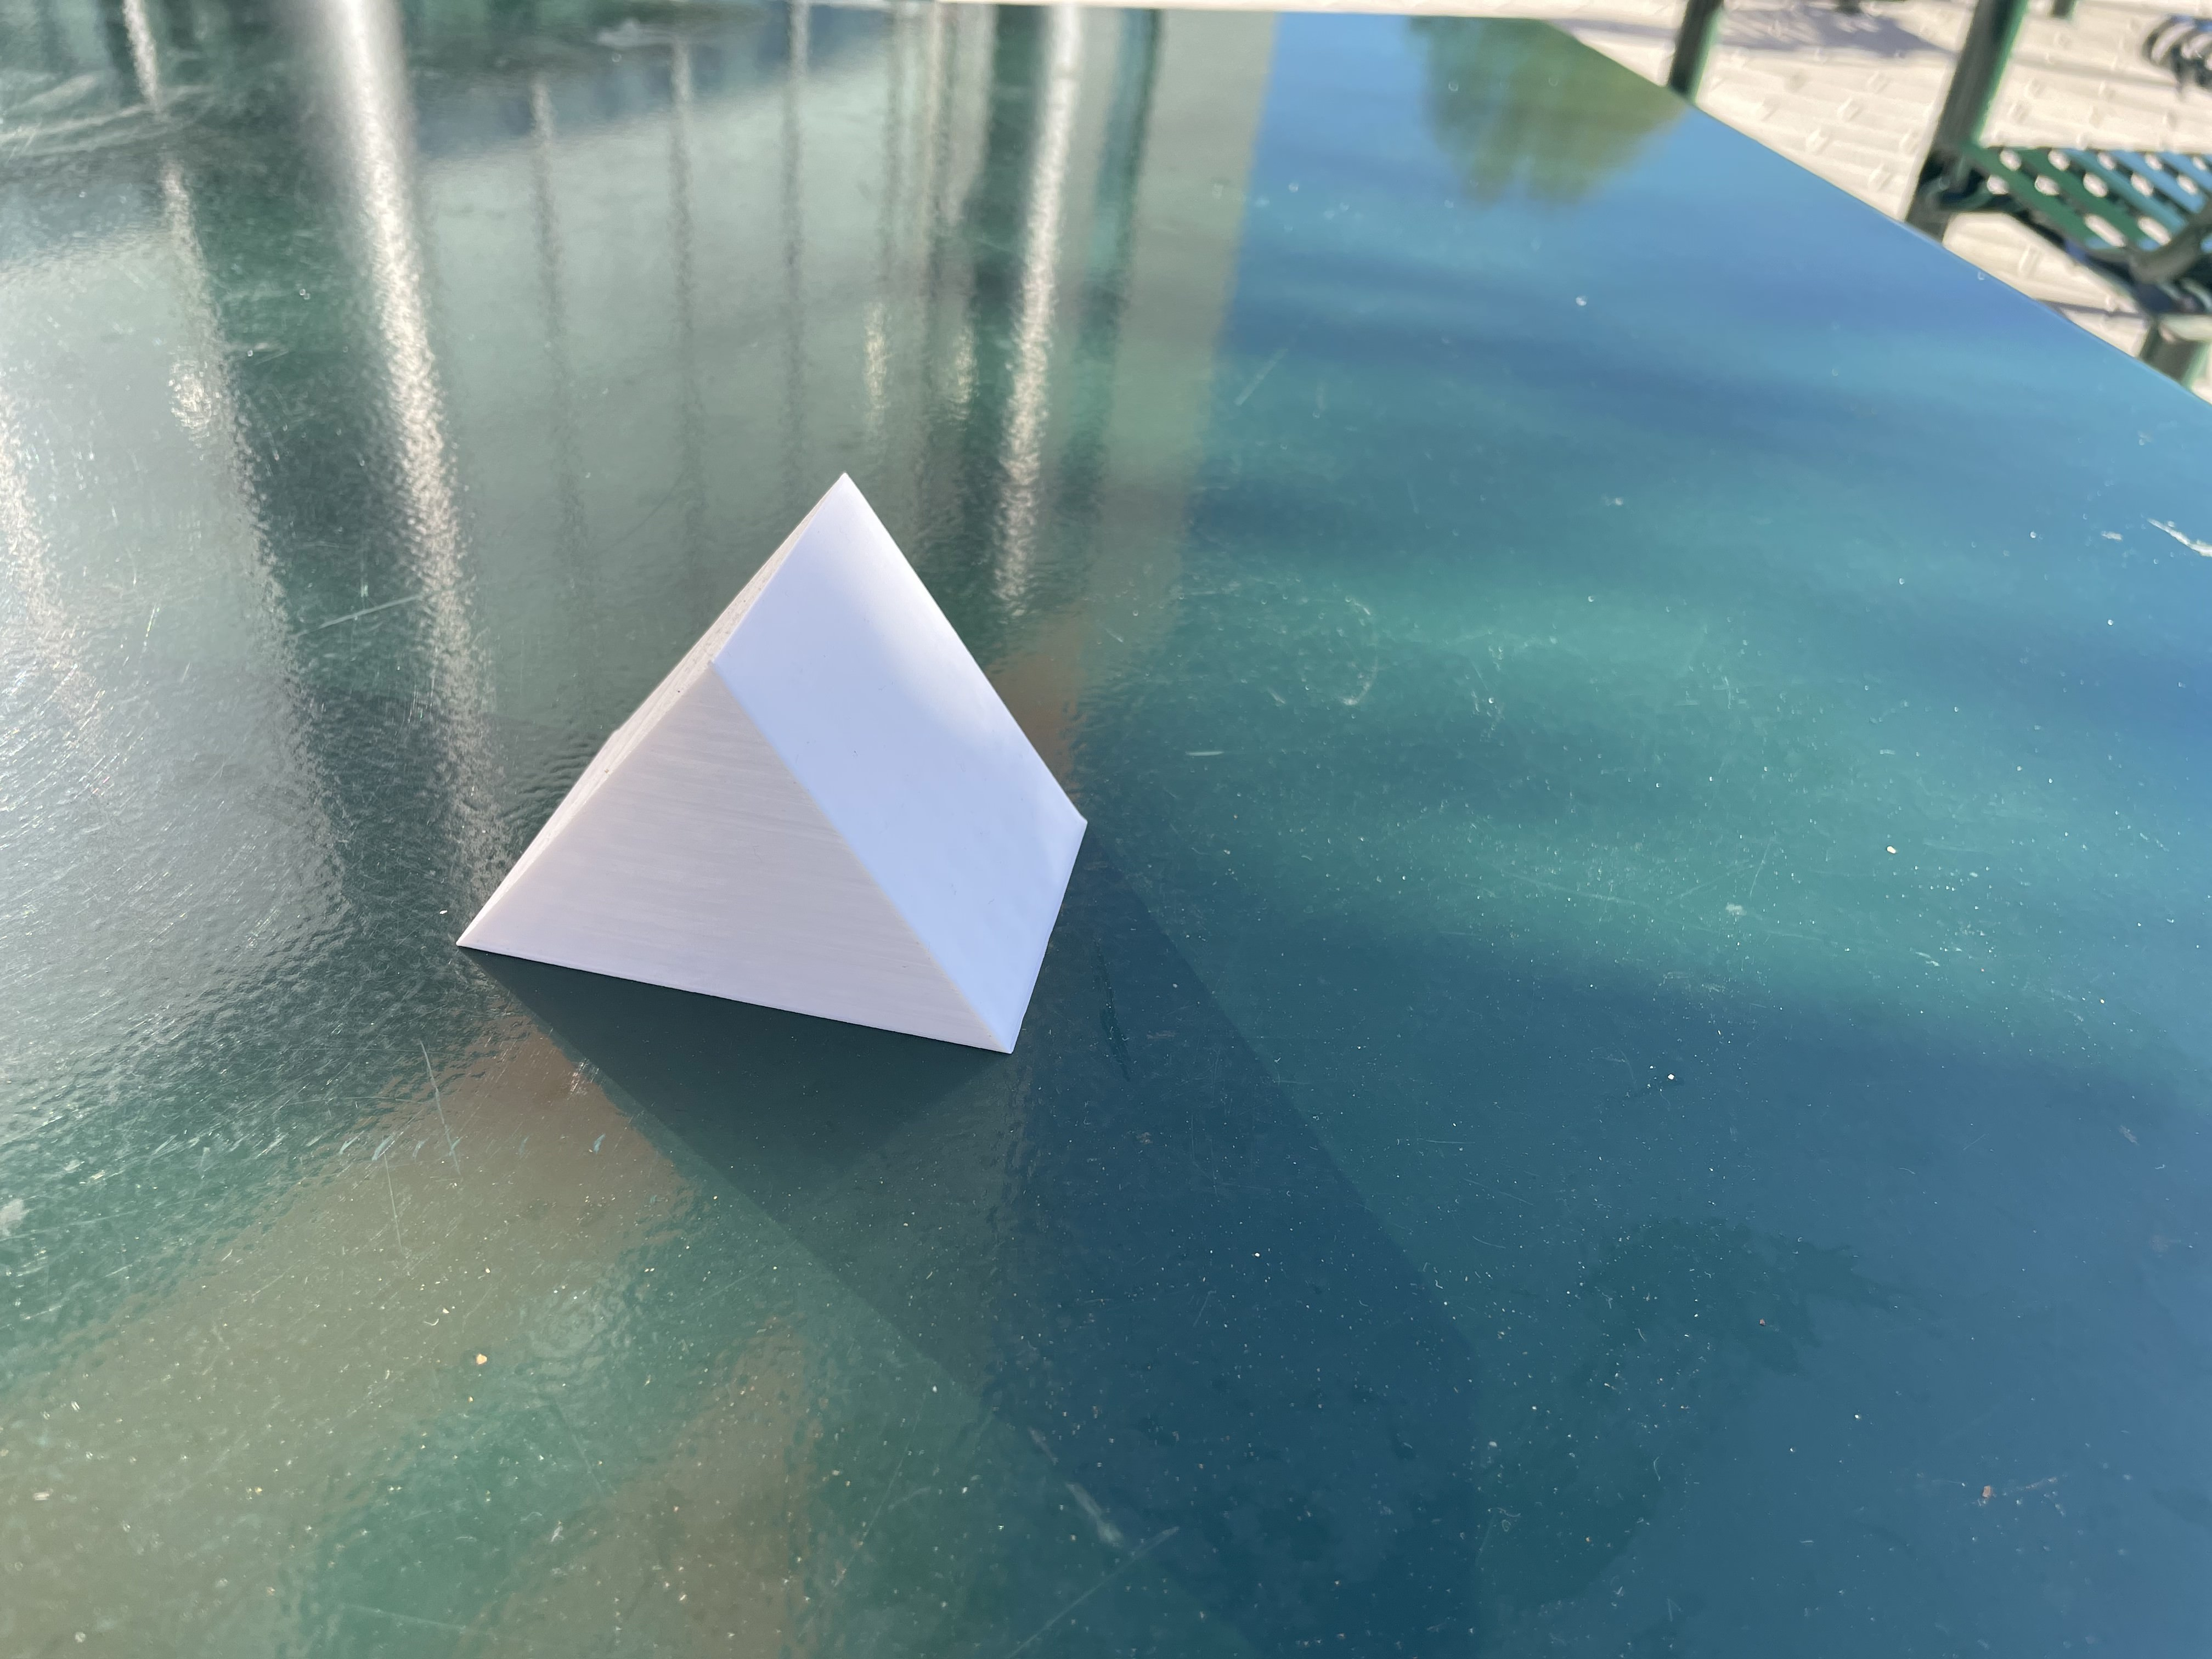payload2: (427, 450, 1109, 1093)
